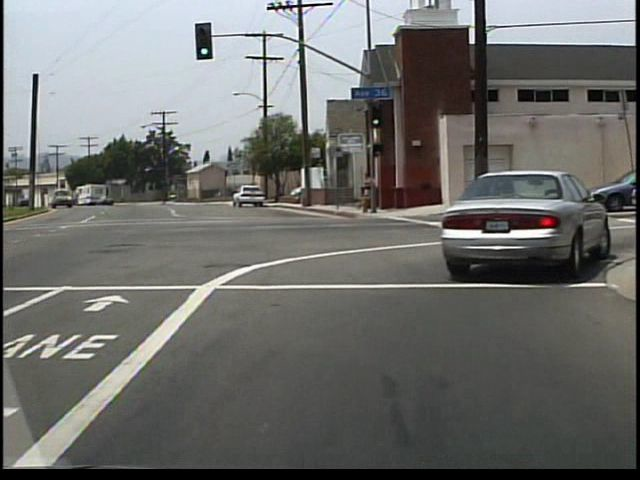person: (358, 171, 374, 213)
